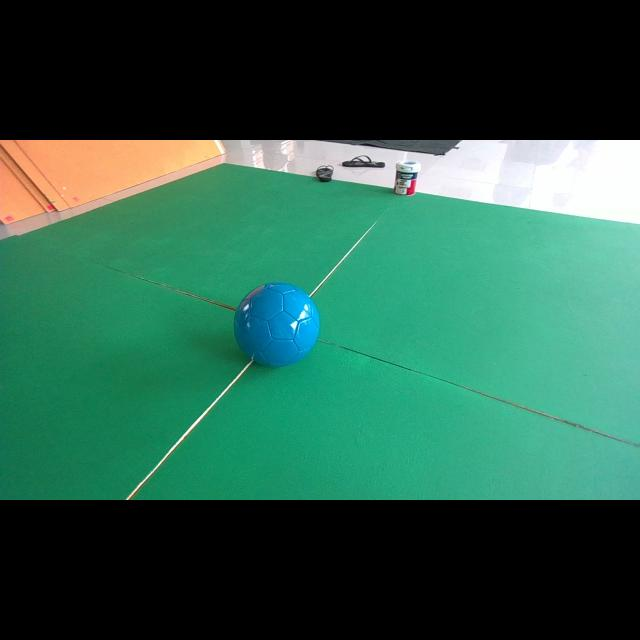B: (234, 282, 320, 366)
